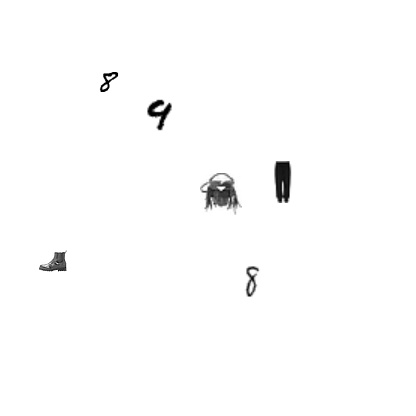8: (230, 259, 272, 301), (94, 66, 122, 94)
9: (137, 91, 179, 133)
Ankle_boot: (39, 247, 67, 275)
Bag: (200, 173, 242, 215)
Trouser: (261, 161, 303, 203)
